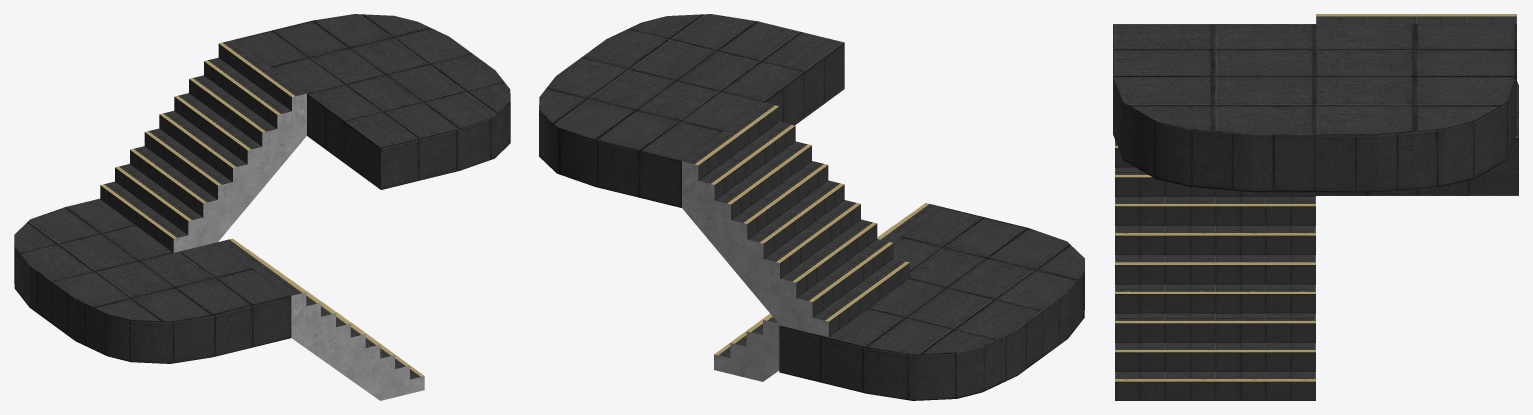
Rendered from Staircase01.FBX.
3 views of the same model, side by side, from view 1: azimuth 30°, elevation 25°; view 2: azimuth 150°, elevation 25°; view 3: azimuth 270°, elevation 25° (orthographic). The views are drawn at different scales.
Parts seen in each view (by area): view 1: Box044; view 2: Box044; view 3: Box044.
Part boxes in pixels (x1=…): Box044: x1=14, y1=14, x2=510, y2=400; Box044: x1=539, y1=14, x2=1084, y2=400; Box044: x1=1113, y1=14, x2=1518, y2=400.
Size of the model in its own units: 865 by 500 by 529.
